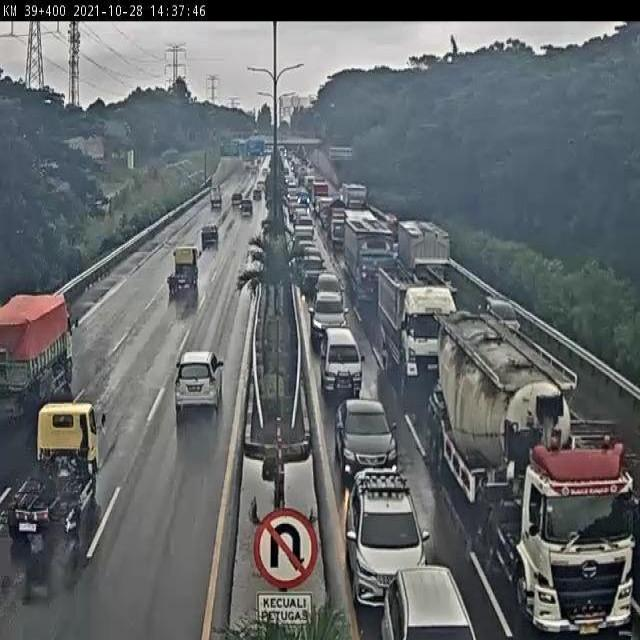big truck: (430, 302, 639, 638), (0, 283, 87, 424), (374, 263, 469, 381), (340, 216, 409, 301)
car: (334, 464, 433, 600), (374, 560, 477, 640), (322, 394, 409, 474), (165, 337, 242, 424), (316, 326, 381, 394), (479, 278, 527, 334), (310, 292, 354, 335), (195, 205, 224, 268), (310, 272, 352, 301), (302, 254, 331, 290), (297, 245, 331, 264), (295, 237, 320, 260), (229, 187, 248, 213), (236, 200, 257, 223), (294, 225, 318, 243)
small truck: (0, 383, 108, 604), (154, 245, 218, 320)
